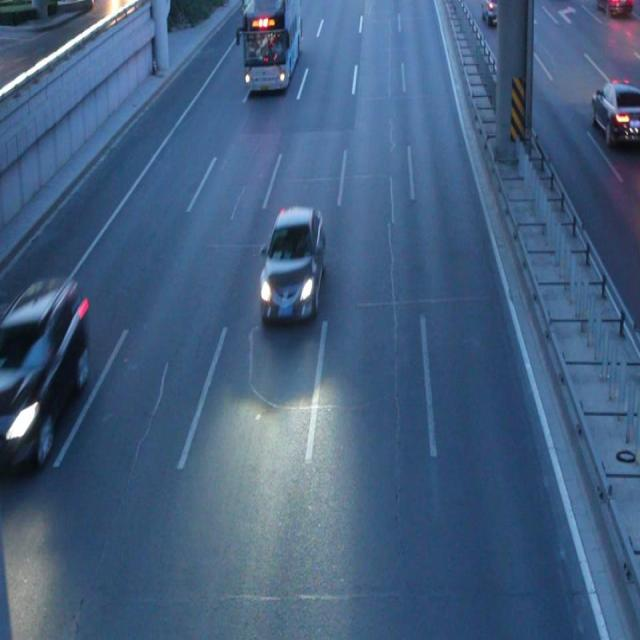car: (1, 284, 89, 476), (257, 210, 322, 324), (589, 80, 640, 150), (478, 1, 501, 29)
van: (239, 1, 298, 89)
